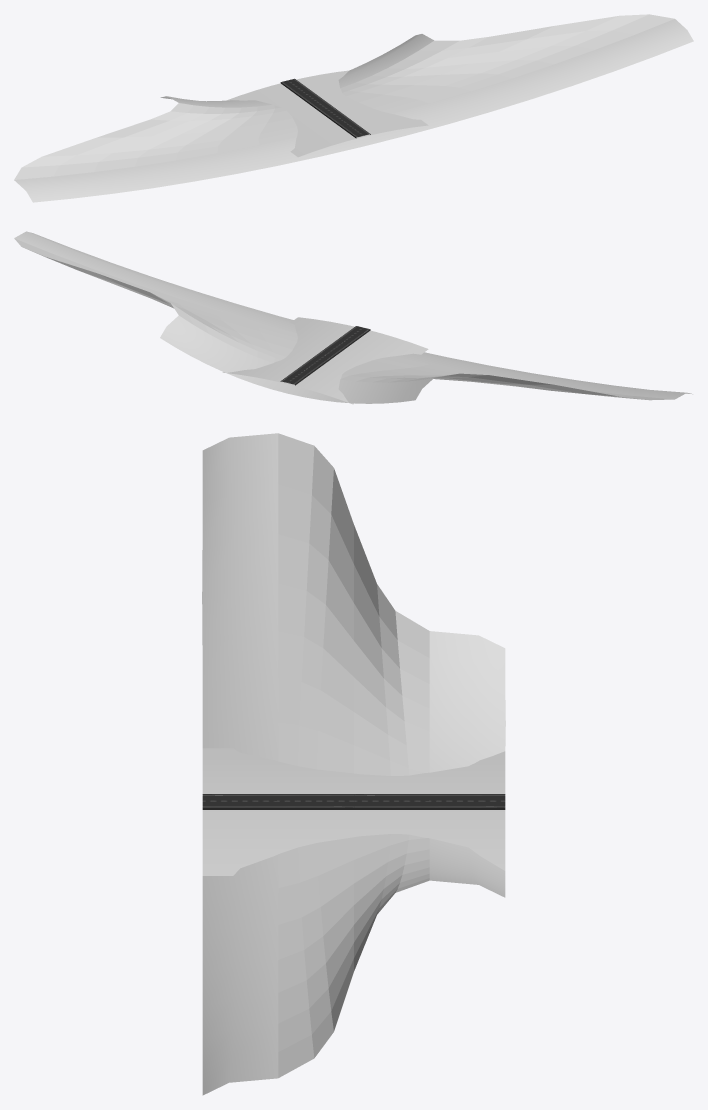
The model's file is low_to_flat.FBX.
The picture shows the model from 3 angles, top to bottom: view 1: azimuth 30°, elevation 25°; view 2: azimuth 150°, elevation 25°; view 3: azimuth 270°, elevation 25°; orthographic projection. The views are drawn at different scales.
Visible parts, largest first — view 1: Plane005, Plane006, Box005; view 2: Plane005, Plane006, Box005; view 3: Plane005, Plane006, Box005.
Part boxes in pixels (x1,y1,x2,y2): Plane005: (14,14,693,202); Plane006: (226,70,428,157); Box005: (280,78,370,138); Plane005: (14,231,692,403); Plane006: (222,317,428,404); Box005: (280,326,370,385); Plane005: (202,433,505,1095); Plane006: (202,748,505,875); Box005: (202,794,505,809).
Bounding box in the file's own units: 128985 × 6916 × 25665.
